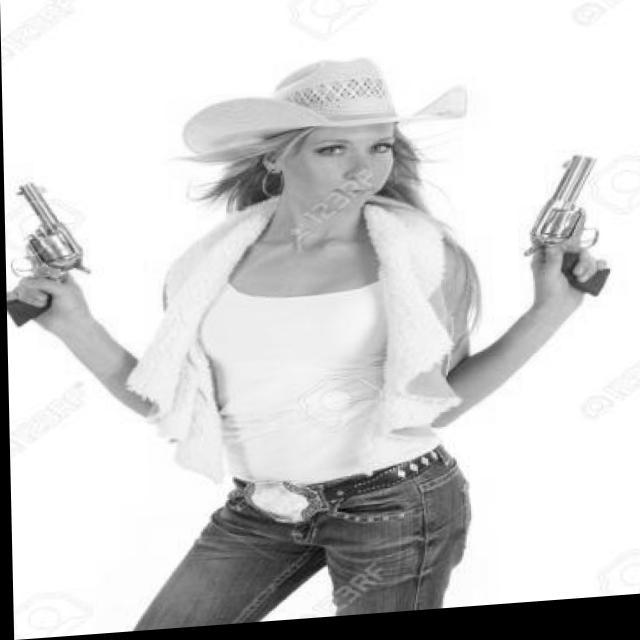weapon: (516, 155, 619, 317), (3, 175, 105, 335)
